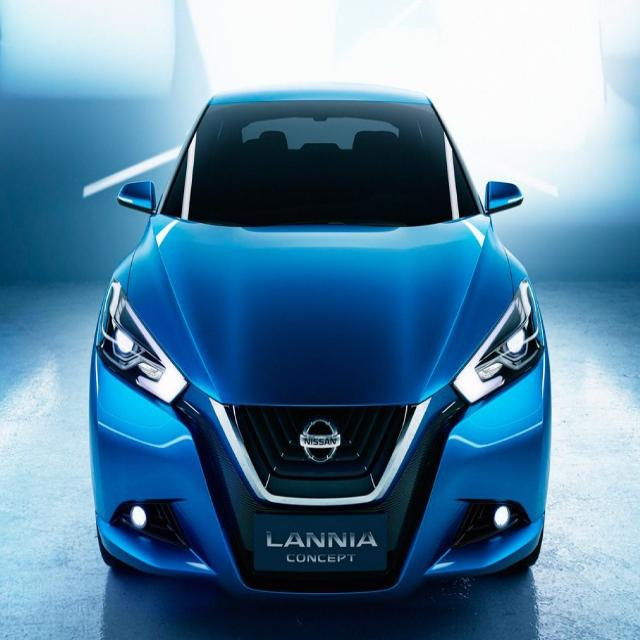front_bumper: (85, 343, 551, 604)
front_glass: (158, 98, 486, 235)
front_left_side_light: (449, 276, 544, 408)
front_left_side_mirror: (482, 179, 527, 223)
front_right_side_light: (98, 273, 191, 412)
front_right_side_mirror: (116, 176, 162, 219)
